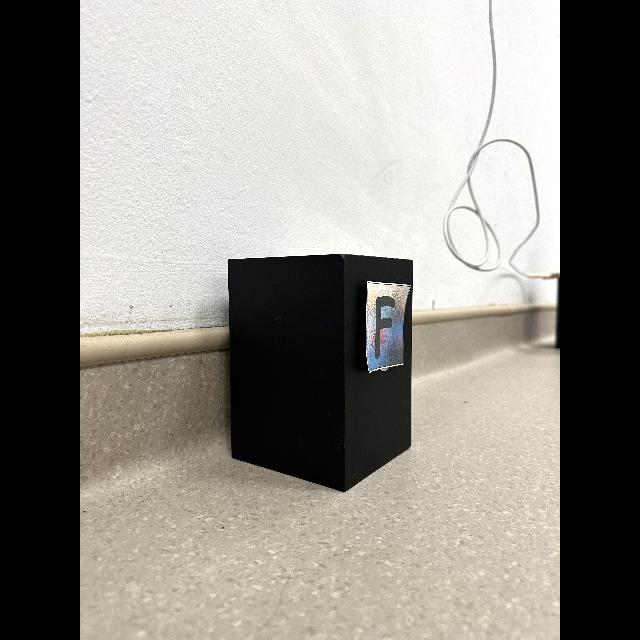F: (375, 296, 395, 359)
